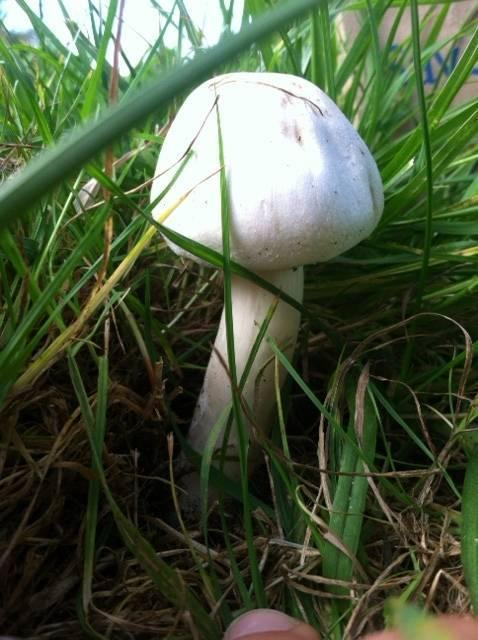poisonous_mushroom: (147, 69, 385, 504)
